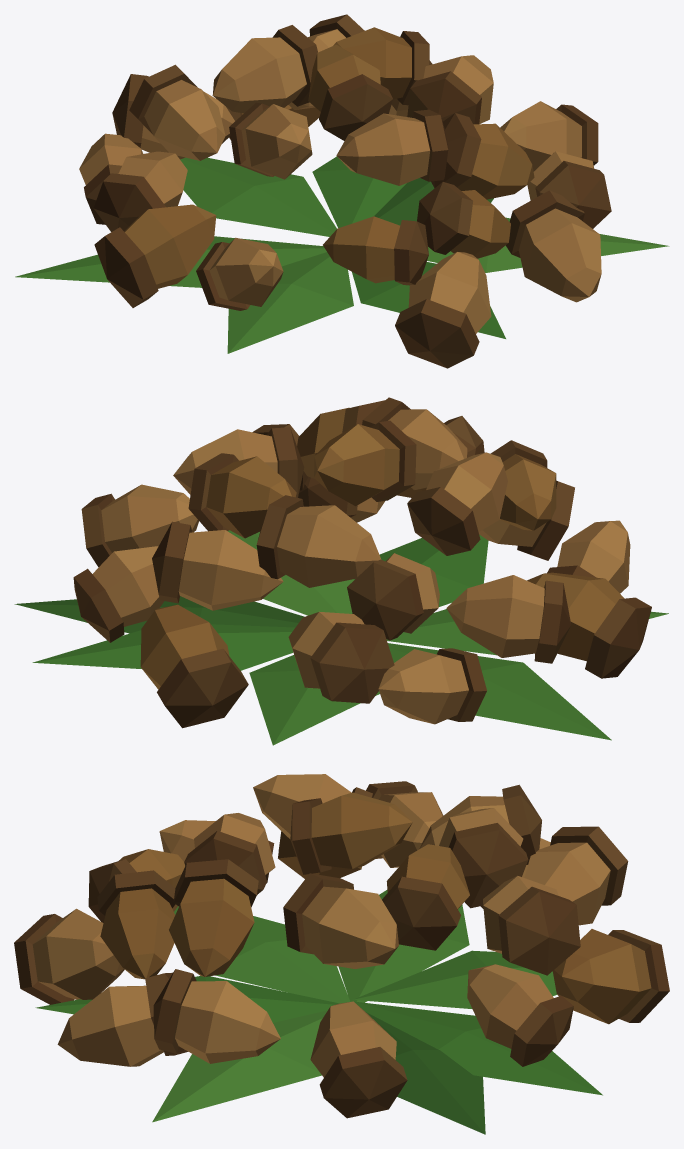
File: storage_acorn.glb
3 views of the same model, one above another, from view 1: azimuth 30°, elevation 25°; view 2: azimuth 150°, elevation 25°; view 3: azimuth 270°, elevation 25° (orthographic). The views are drawn at different scales.
Parts seen in each view (by area): view 1: storage_acorn; view 2: storage_acorn; view 3: storage_acorn.
Part boxes in pixels (left/top/right/bottom): storage_acorn: left=15, top=14, right=669, bottom=368; storage_acorn: left=14, top=397, right=668, bottom=745; storage_acorn: left=14, top=774, right=669, bottom=1134.
Size of the model in its own units: 1.58 by 0.5829 by 1.5.
